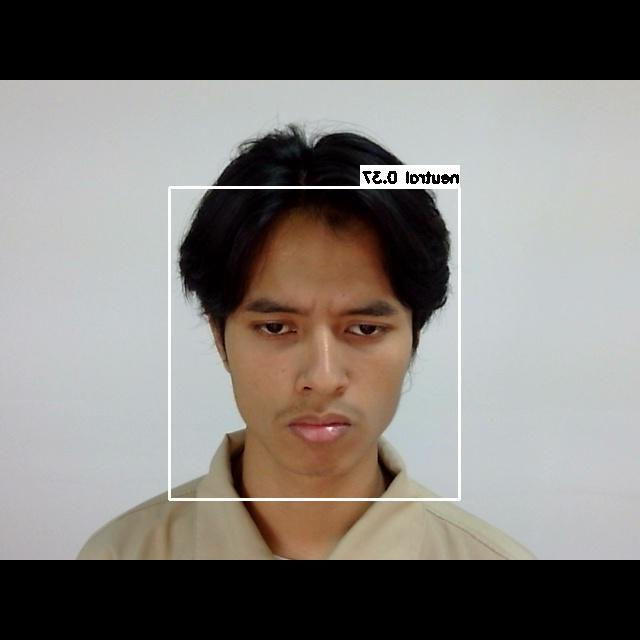Sad: (219, 275, 413, 451)
